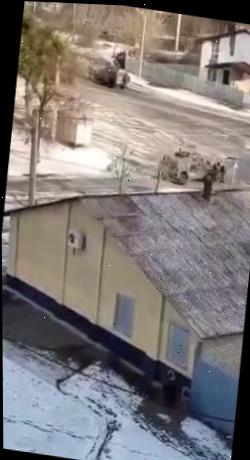armored_car: (158, 144, 217, 189), (92, 62, 131, 90)
